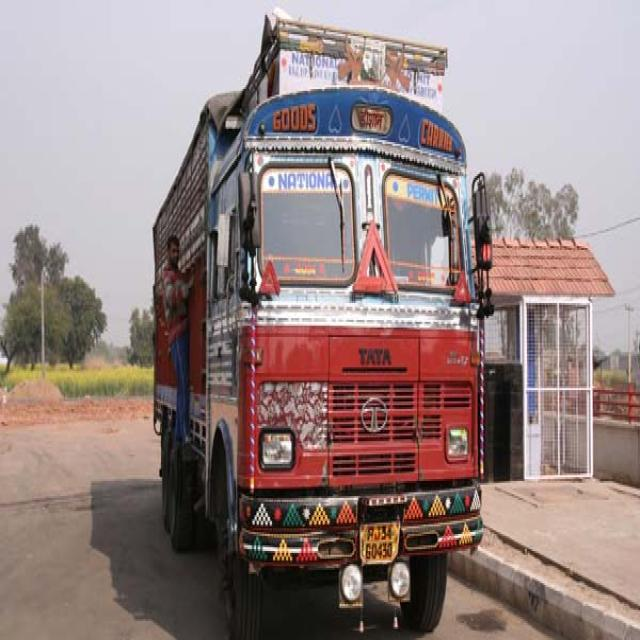truck: (154, 20, 491, 636)
